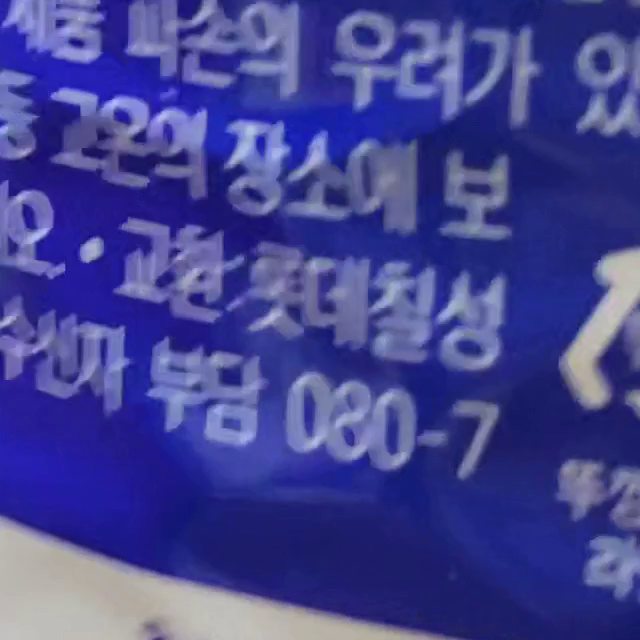ColorlessPet: (471, 245, 638, 502)
